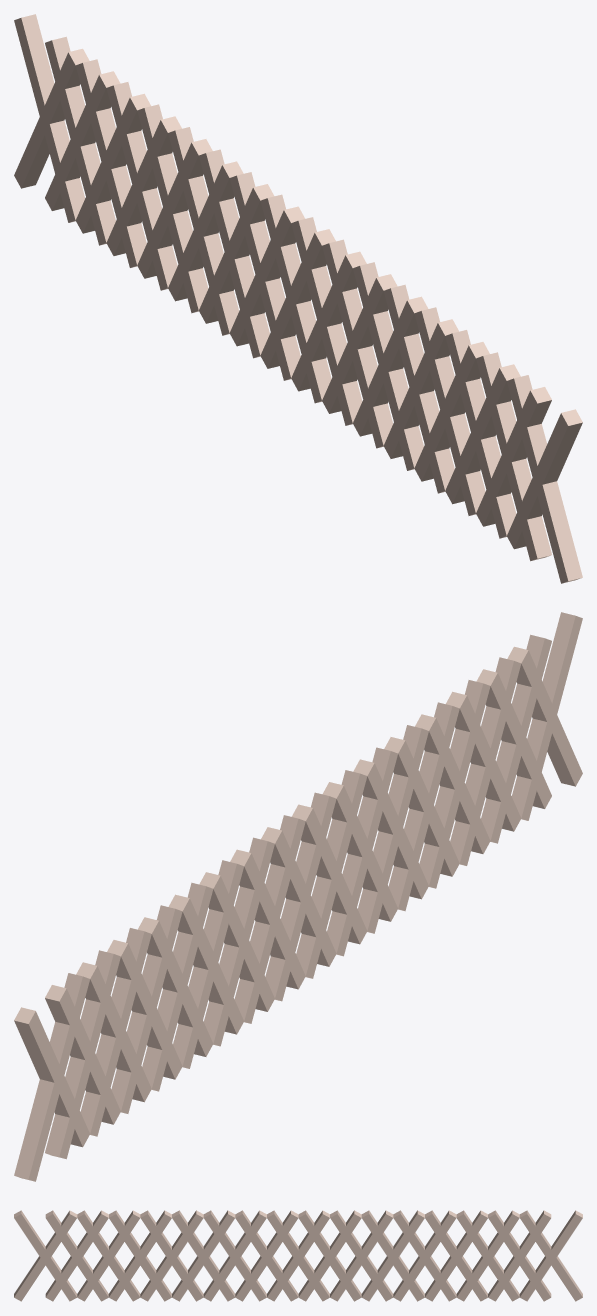
Rendered from midFloorWindow.fbx.
The picture shows the model from 3 angles, top to bottom: view 1: azimuth 30°, elevation 25°; view 2: azimuth 150°, elevation 25°; view 3: azimuth 270°, elevation 25°; orthographic projection. The views are drawn at different scales.
Visible parts, largest first — view 1: midFloorWindow; view 2: midFloorWindow; view 3: midFloorWindow.
Boxes of the visible parts, bbox=[...] form: midFloorWindow: bbox=[14, 14, 582, 583]; midFloorWindow: bbox=[14, 612, 582, 1181]; midFloorWindow: bbox=[14, 1210, 582, 1301].
Bounding box in the file's own units: 4.17 × 46.5 × 273.
